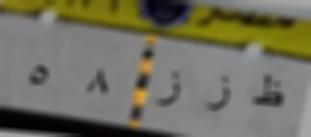5: (24, 56, 55, 98)
8: (82, 63, 113, 106)
Thaa: (248, 67, 288, 117)
zay: (203, 68, 235, 121), (155, 64, 186, 115)
